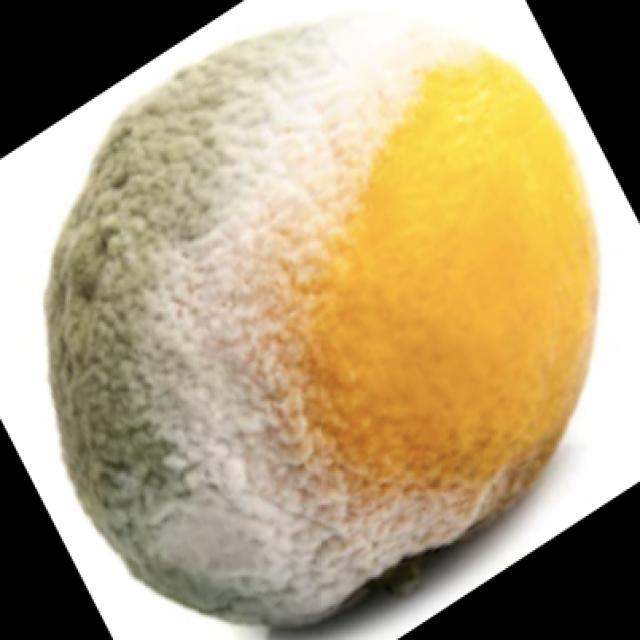sangat-busuk: (48, 20, 595, 625)
